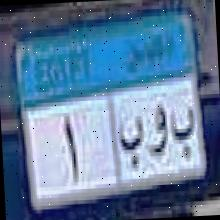1: (62, 111, 84, 182)
baa: (169, 96, 196, 165), (116, 113, 146, 175)
waw: (144, 100, 170, 165)
